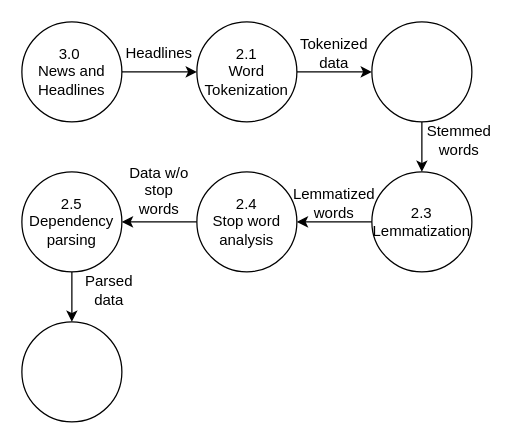
Image size: 519x444. Some labels were removed from this diagram. Each missing label, with the centre of its shape:
2.2 Stemming: the point at 421,71
2.7 Sentiment Generation: the point at 71,371
